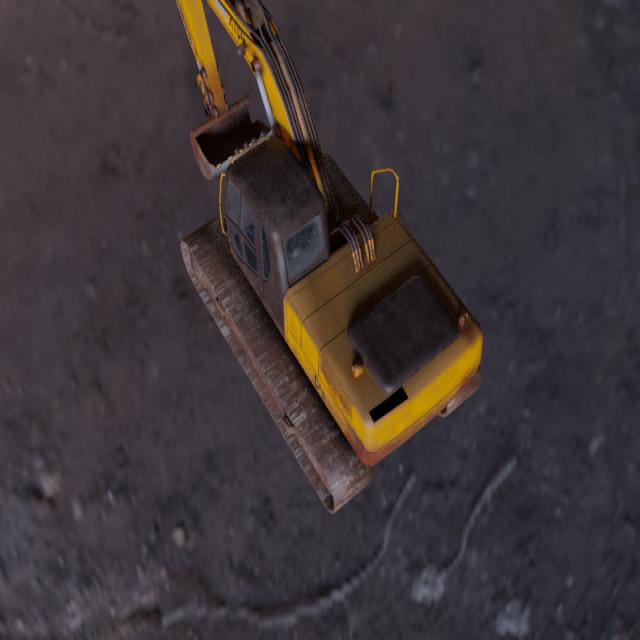excavator: (175, 0, 482, 515)
